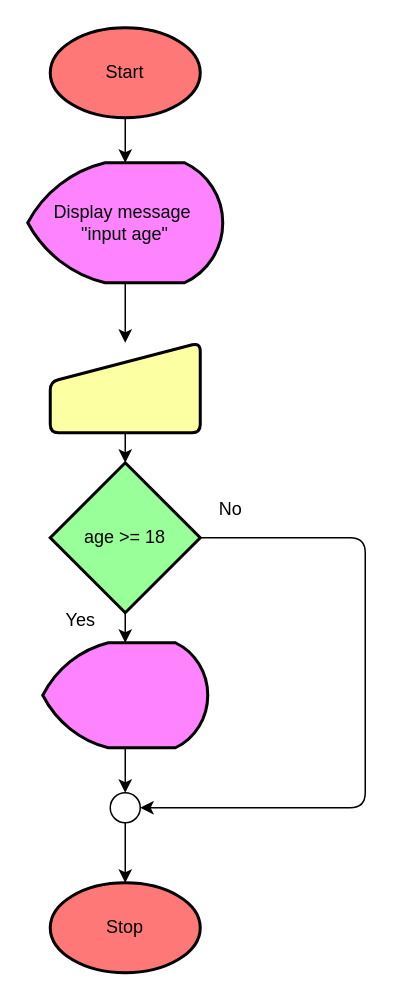
This 404x999 diagram has some shape labels left out. The box of each missing label's shape, as (x1, y1, x2, y2) in pixels:
Display message "Your are an dult.": (40, 640, 208, 748)
read input age: (48, 340, 201, 434)
